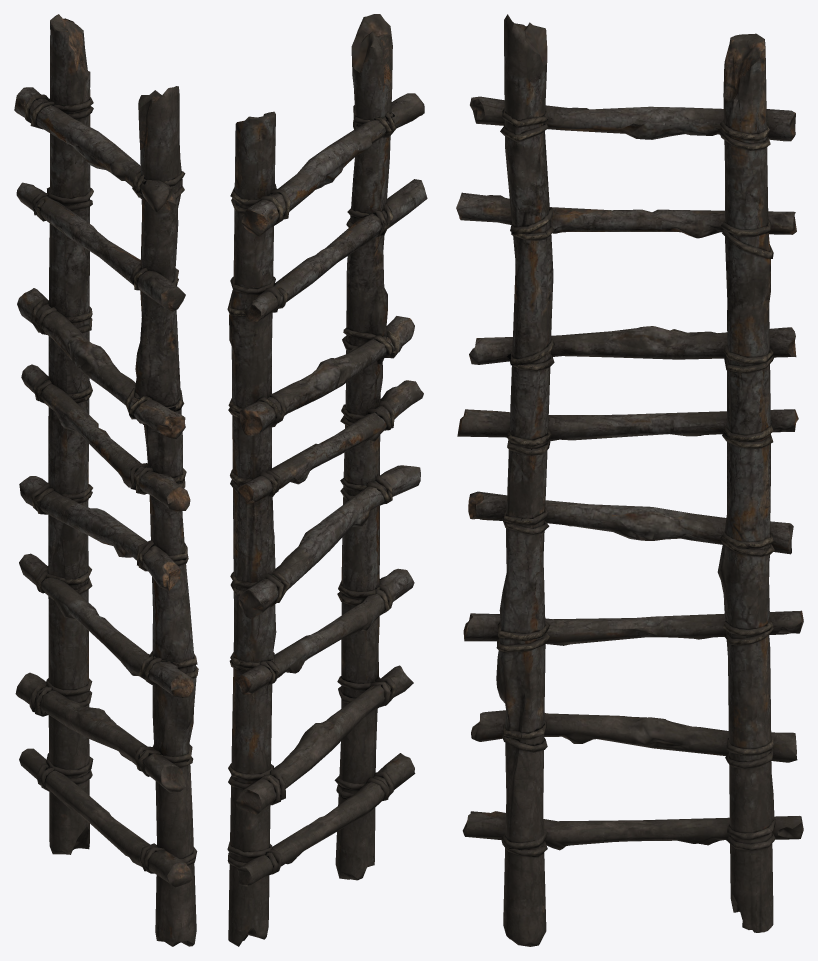
Rendered from SM_LogLadder_01.glb.
3 renders of one model, left to right at view 1: azimuth 30°, elevation 25°; view 2: azimuth 150°, elevation 25°; view 3: azimuth 270°, elevation 25°, orthographic. The views are drawn at different scales.
Visible parts, largest first — view 1: SM_LogLadder_01; view 2: SM_LogLadder_01; view 3: SM_LogLadder_01.
Boxes of the visible parts, bbox=[...] form: SM_LogLadder_01: bbox=[14, 14, 198, 946]; SM_LogLadder_01: bbox=[227, 14, 427, 946]; SM_LogLadder_01: bbox=[456, 14, 803, 946].
Bounding box in the file's own units: 0.2006 × 2.46 × 0.8448.
1 material, 1 textured.
